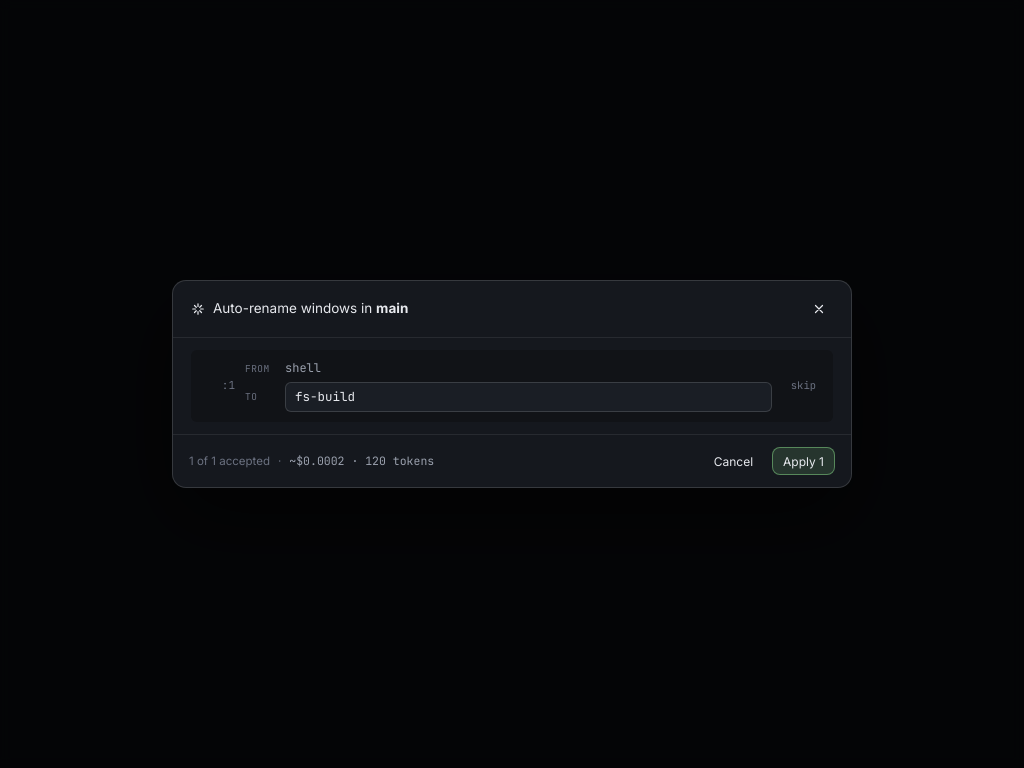
Test: AutoRenameModal › toggling skip flips the accepted count and the row's input visibility
The width and height of the screenshot is (1024, 768).
Expected: the number of fields is 1, [285, 382, 772, 412]
What coordinates should you click on to do the following:
click the button "skip"
I would click on:
 (803, 386)
Its box is [782, 373, 825, 399].
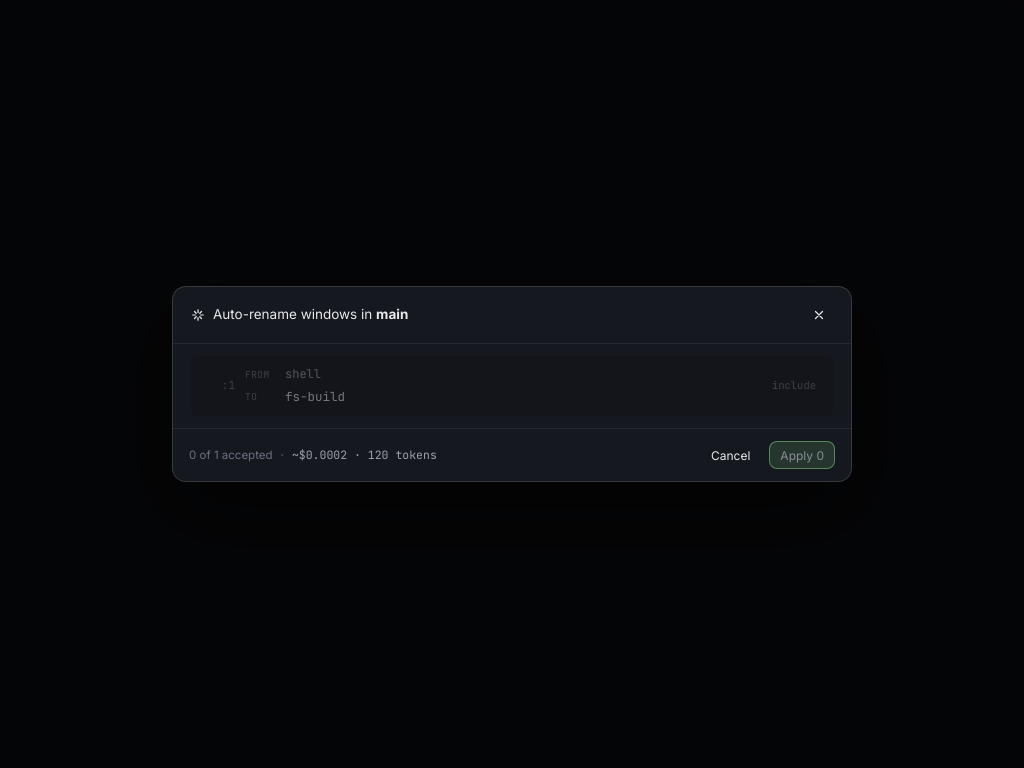
Expected: no fields are shown
Expected: the button "Apply 0" is disabled, [769, 441, 835, 469]
